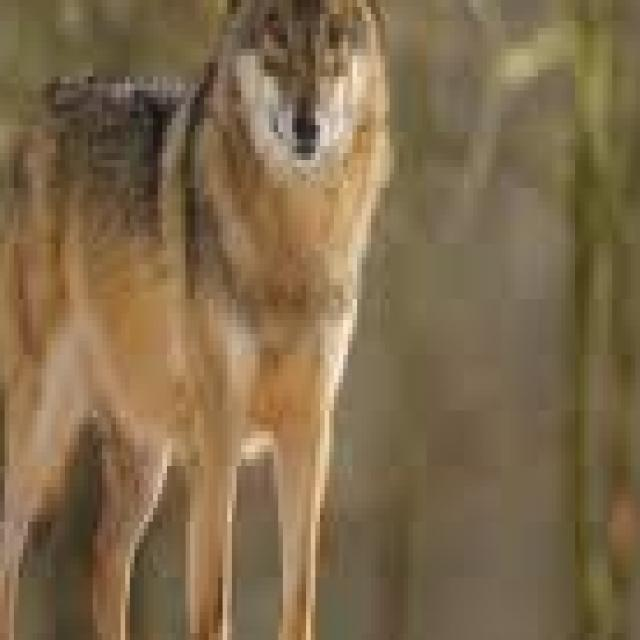wolf: (0, 0, 390, 640)
